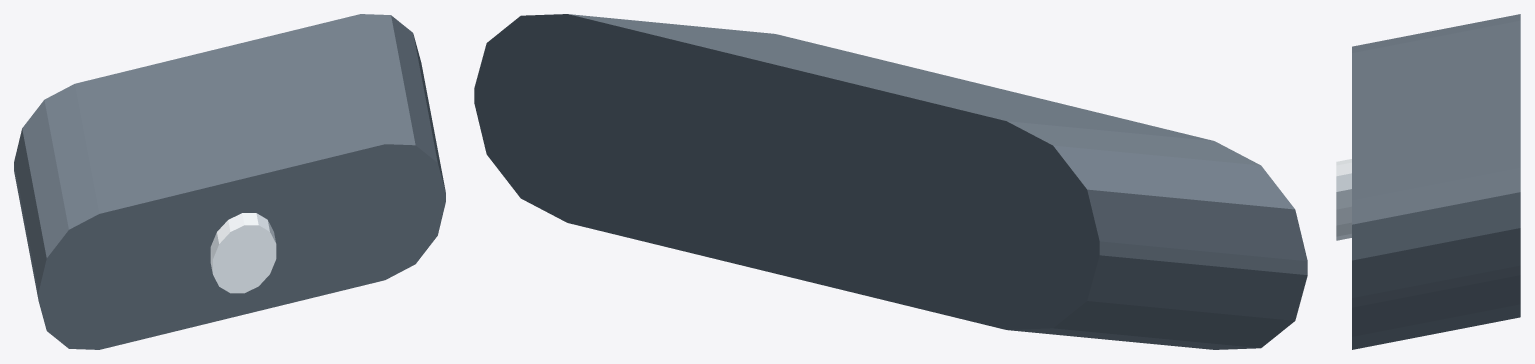
The model's file is Edge_ShutterH.gltf.
3 renders of one model, left to right at view 1: azimuth 30°, elevation 25°; view 2: azimuth 150°, elevation 25°; view 3: azimuth 270°, elevation 25°, orthographic. The views are drawn at different scales.
Parts seen in each view (by area): view 1: Edge_ShutterH_baked; view 2: Edge_ShutterH_baked; view 3: Edge_ShutterH_baked.
Part boxes in pixels (x1,y1,x2,y2): Edge_ShutterH_baked: (14, 14, 445, 349); Edge_ShutterH_baked: (474, 14, 1307, 349); Edge_ShutterH_baked: (1336, 14, 1520, 349).
Size of the model in its own units: 1.07 by 0.428 by 0.35.
